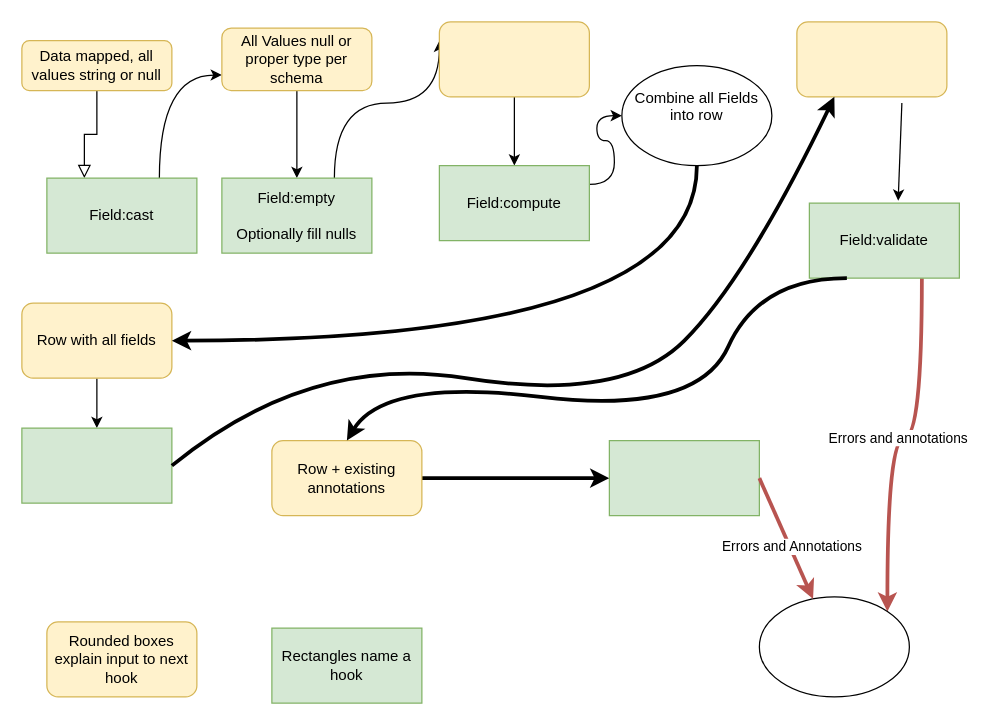
This 989x725 diagram has some shape labels left out. Here are the shapes that lost their labels. From the top down, the centre of each, then its label:
At point (513, 59): "All fields with a non null value".
At point (871, 59): "The set of fields with All values that will ever be written".
At point (96, 465): "row:compute".
At point (683, 477): "row:validate".
At point (833, 646): "Annotations".
